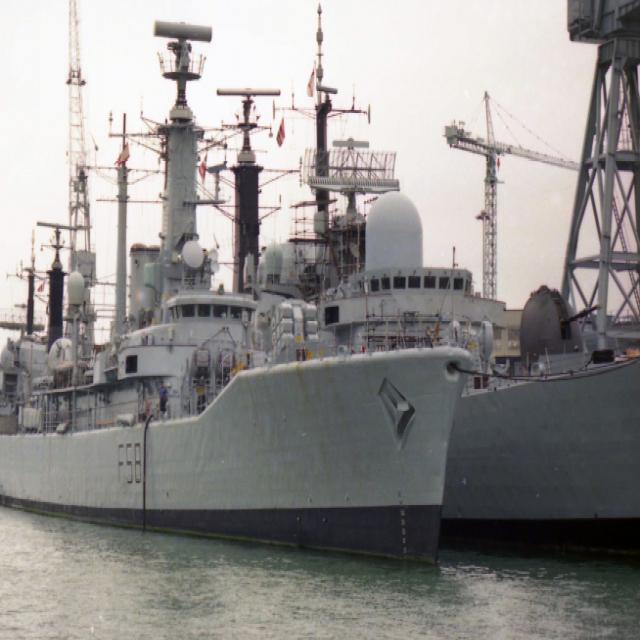Fragata: (1, 107, 480, 578)
